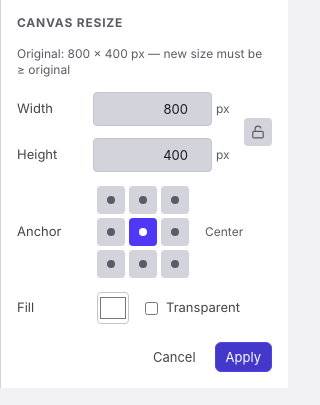
Test: CanvasResizeDialog — size fields › treats a non-numeric width as empty, disables Apply, and restores it on blur
Replace the text in the number field labelled "Width px" with "abc": [152, 109] box [93,92,212,126]
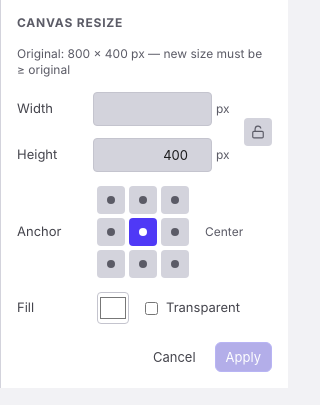
Check: the number field labelled "Width px" is not empty
Check: the button "Apply" is disabled, box [215,342,272,372]
Leave the number field labelled "Width px", box [93,92,212,126]
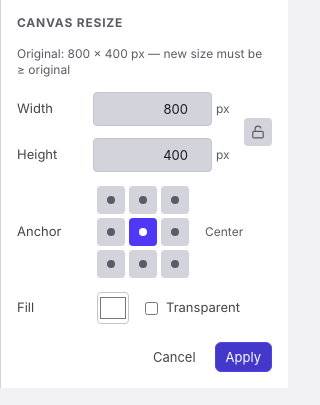
Check: the number field labelled "Width px" holds "800", box [93,92,212,126]
